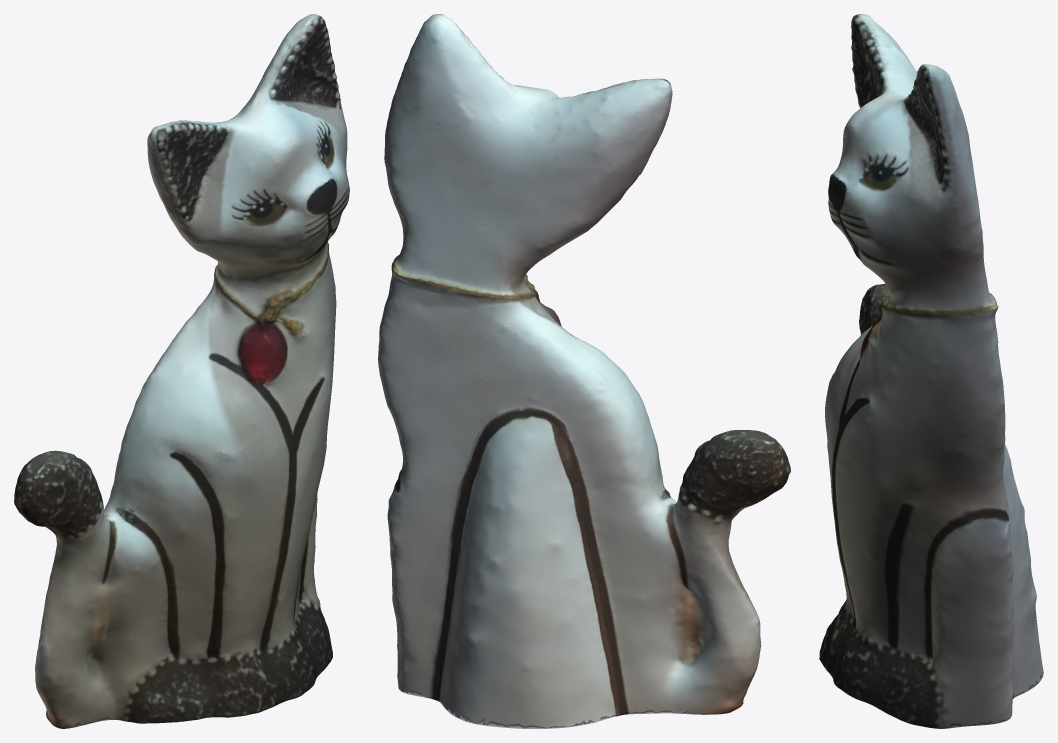
Rendered from cat2.glb.
3 views of the same model, side by side, from view 1: azimuth 30°, elevation 25°; view 2: azimuth 150°, elevation 25°; view 3: azimuth 270°, elevation 25° (orthographic). The views are drawn at different scales.
Visible parts, largest first — view 1: cat2; view 2: cat2; view 3: cat2.
Part boxes in pixels (left/top/right/bottom): cat2: left=14, top=14, right=349, bottom=728; cat2: left=378, top=14, right=790, bottom=728; cat2: left=819, top=14, right=1043, bottom=728.
Bounding box in the file's own units: 0.1983 × 0.3353 × 0.104.
Materials: 1 (1 with a texture image).
